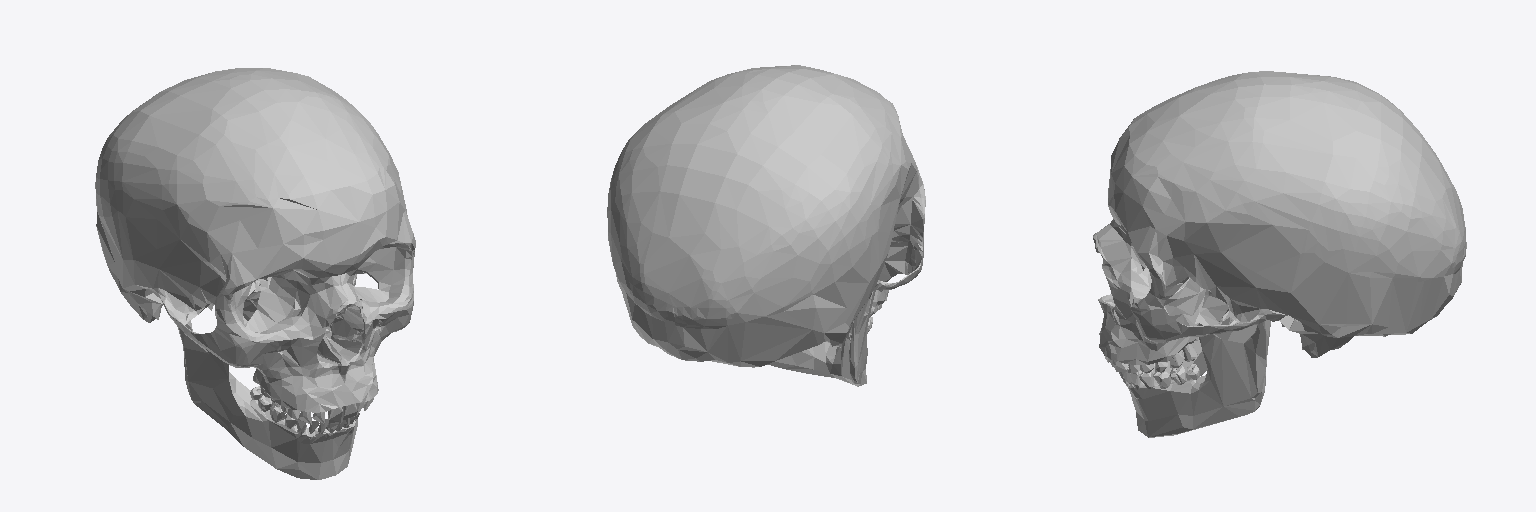
The model's file is Skull.obj.
The picture shows the model from 3 angles: view 1: azimuth 30°, elevation 25°; view 2: azimuth 150°, elevation 25°; view 3: azimuth 270°, elevation 25°; orthographic projection.
Visible parts, largest first — view 1: Skull Uperskull SKULL, Skull Lower_skull skull2, Skull Lower_skull teeth1, Skull Uperskull teeth; view 2: Skull Uperskull SKULL, Skull Lower_skull skull2; view 3: Skull Uperskull SKULL, Skull Lower_skull skull2, Skull Lower_skull teeth1, Skull Uperskull teeth.
Boxes of the visible parts, box(x1,y1,x2,y2) form: Skull Uperskull SKULL: box(95, 68, 415, 412); Skull Lower_skull skull2: box(177, 274, 357, 479); Skull Lower_skull teeth1: box(250, 386, 359, 434); Skull Uperskull teeth: box(253, 371, 373, 424); Skull Uperskull SKULL: box(607, 65, 925, 367); Skull Lower_skull skull2: box(767, 290, 875, 386); Skull Uperskull SKULL: box(1093, 71, 1466, 364); Skull Lower_skull skull2: box(1123, 311, 1270, 437); Skull Lower_skull teeth1: box(1119, 337, 1199, 389); Skull Uperskull teeth: box(1104, 344, 1197, 373).
Size of the model in its own units: 397 by 536 by 530.